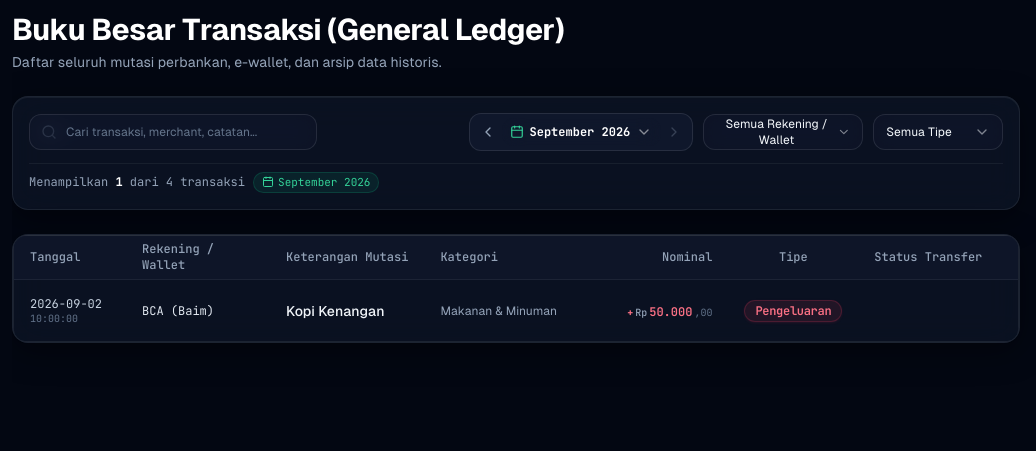
it: Transactions Month Navigator & Filtering › filters transactions correctly when navigating with chevrons
Check: the text "Kopi Kenangan" is shown, box [286,303,384,319]
Click the button titled "Bulan Lebih Lampau" at (488, 132), box [474,118,502,146]
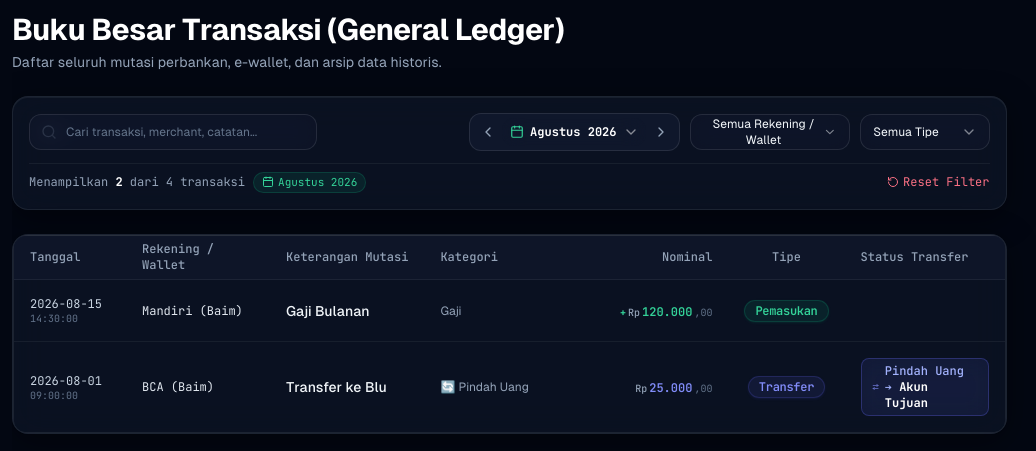
Check: the text "Kopi Kenangan" is gone
Check: the text "Gaji Bulanan" is shown, box [286,303,370,319]
Check: the text "Transfer ke Blu" is shown, box [286,380,387,396]
Click the button titled "Bulan Lebih Baru" at (660, 132), box [646,118,674,146]
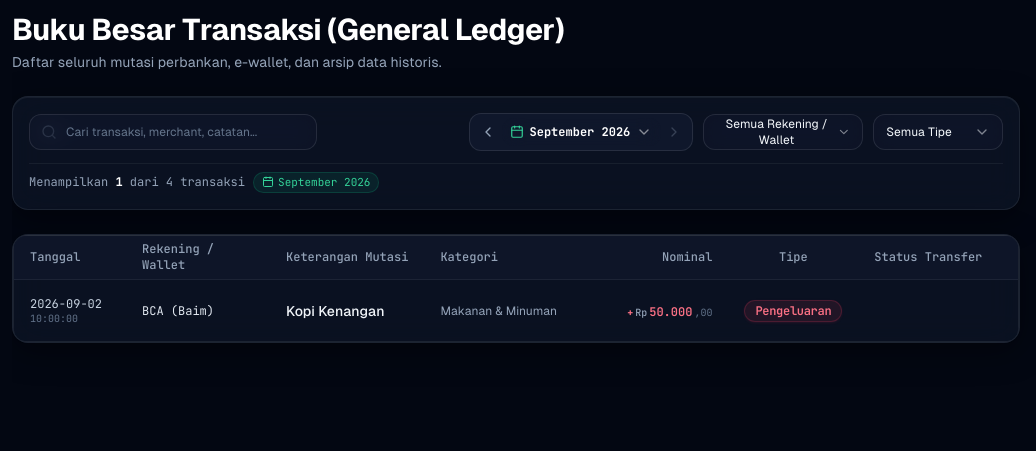
Check: the text "Kopi Kenangan" is shown, box [286,303,384,319]
Check: the text "Gaji Bulanan" is gone
